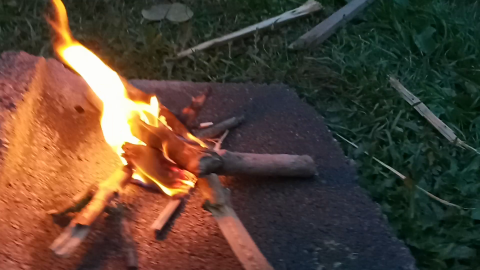fire: (30, 1, 218, 197)
